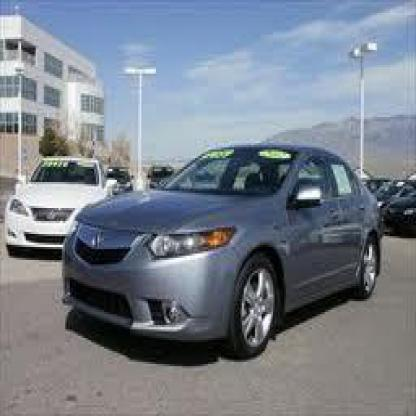Vehicle: (60, 145, 385, 364)
